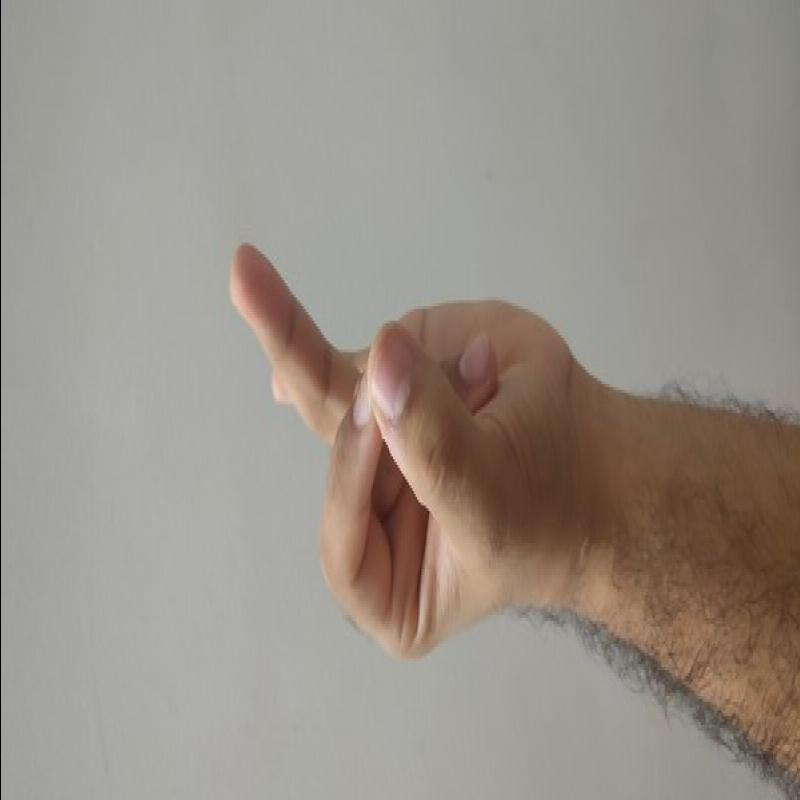Katakam: (216, 207, 598, 666)
